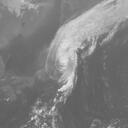cyclone: (49, 32, 79, 78)
